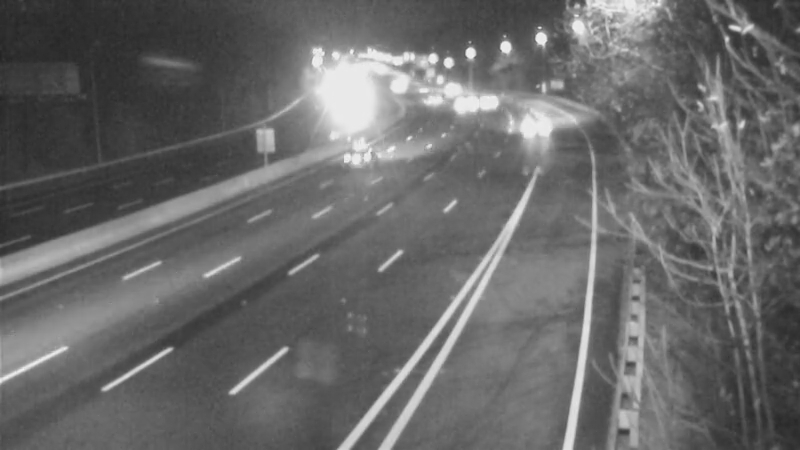vehicle: (319, 115, 399, 195), (425, 61, 475, 111), (399, 66, 449, 116), (410, 74, 460, 124), (442, 81, 492, 131), (466, 81, 516, 131), (508, 102, 558, 152)
